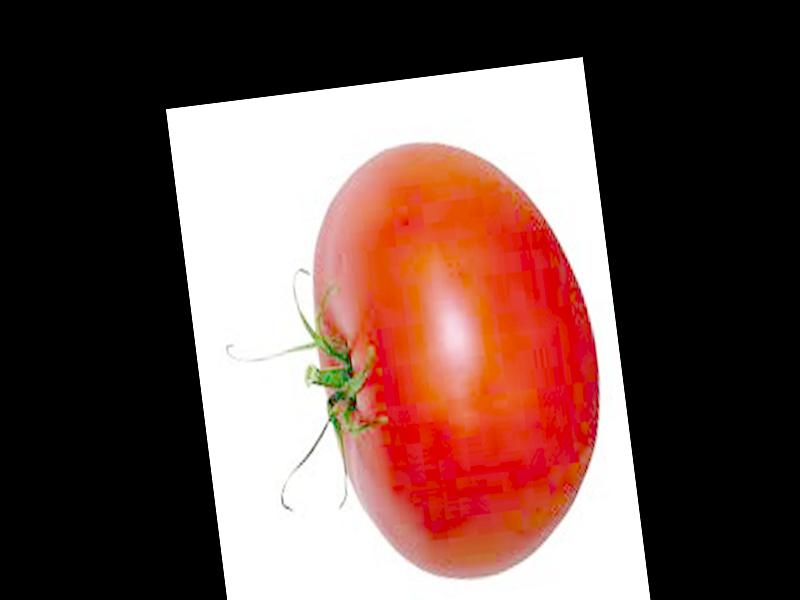Tomato: (292, 120, 620, 593)
